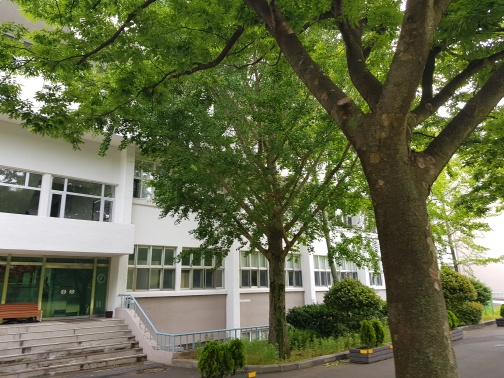Main Building of University: (5, 73, 394, 363)
